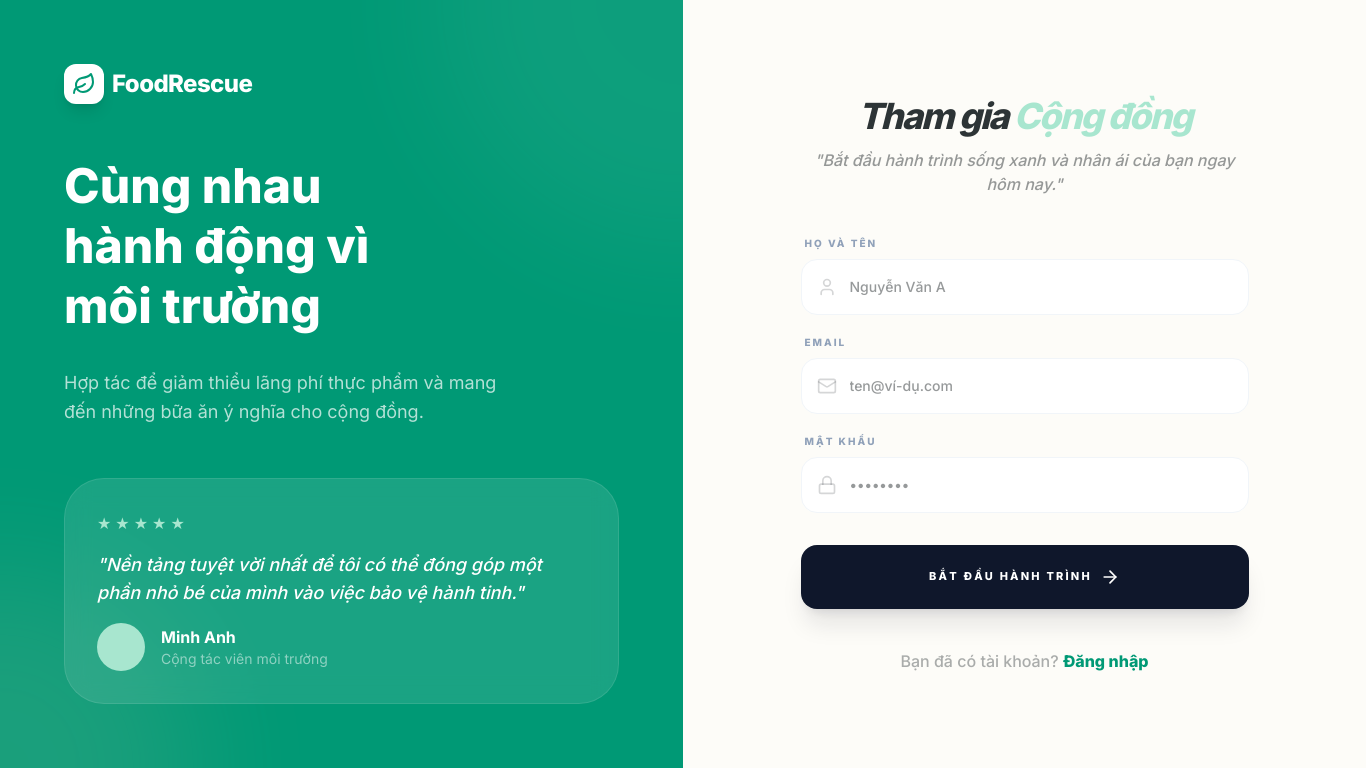
Test: RegisterPage › shows error when register API returns invalid input
Type "Nguyen Van B" into the field with placeholder "Nguyễn Văn A" at (1024, 286), box [800,258,1248,314]
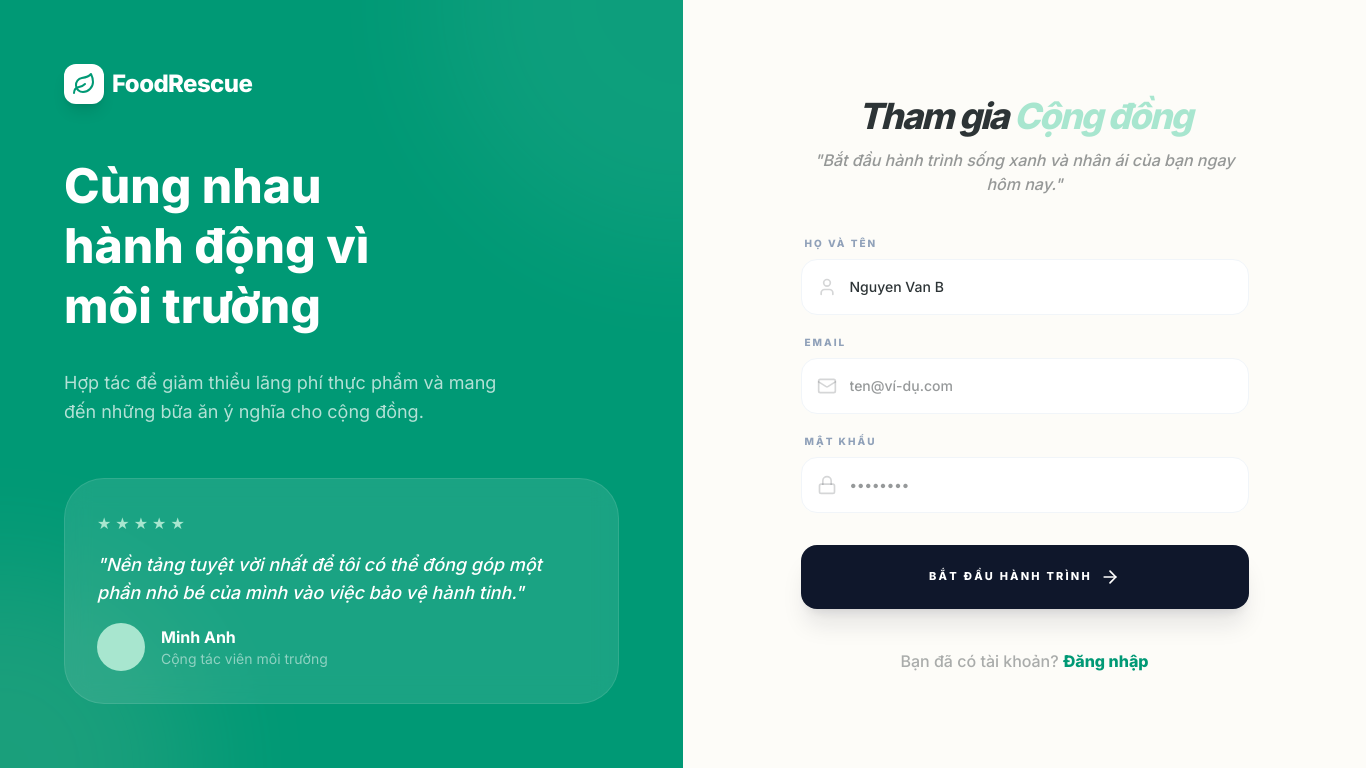
Type "existing@example.com" into the field with placeholder "ten@ví-dụ.com" at (1024, 386), box [800,358,1248,414]
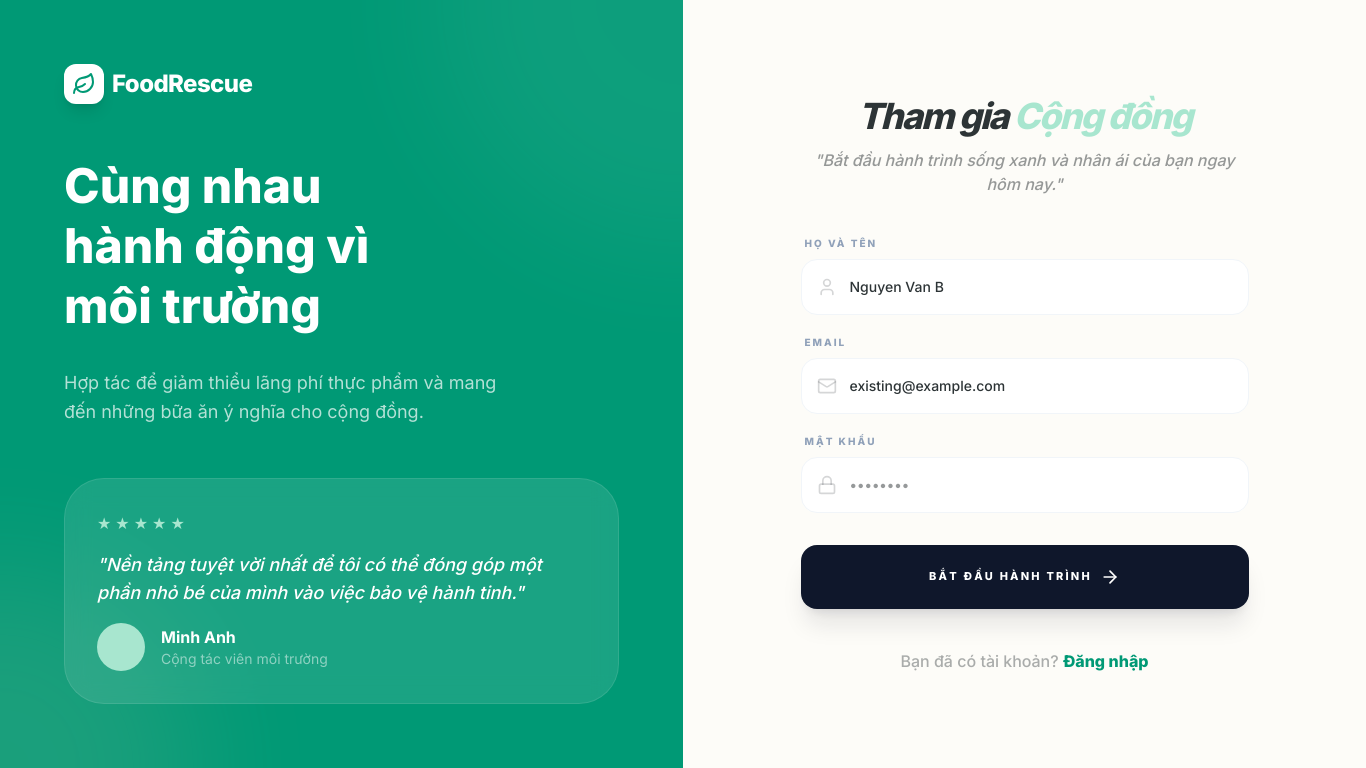
Type "12345678" into the password field with placeholder "••••••••" at (1024, 484), box [800,456,1248,512]
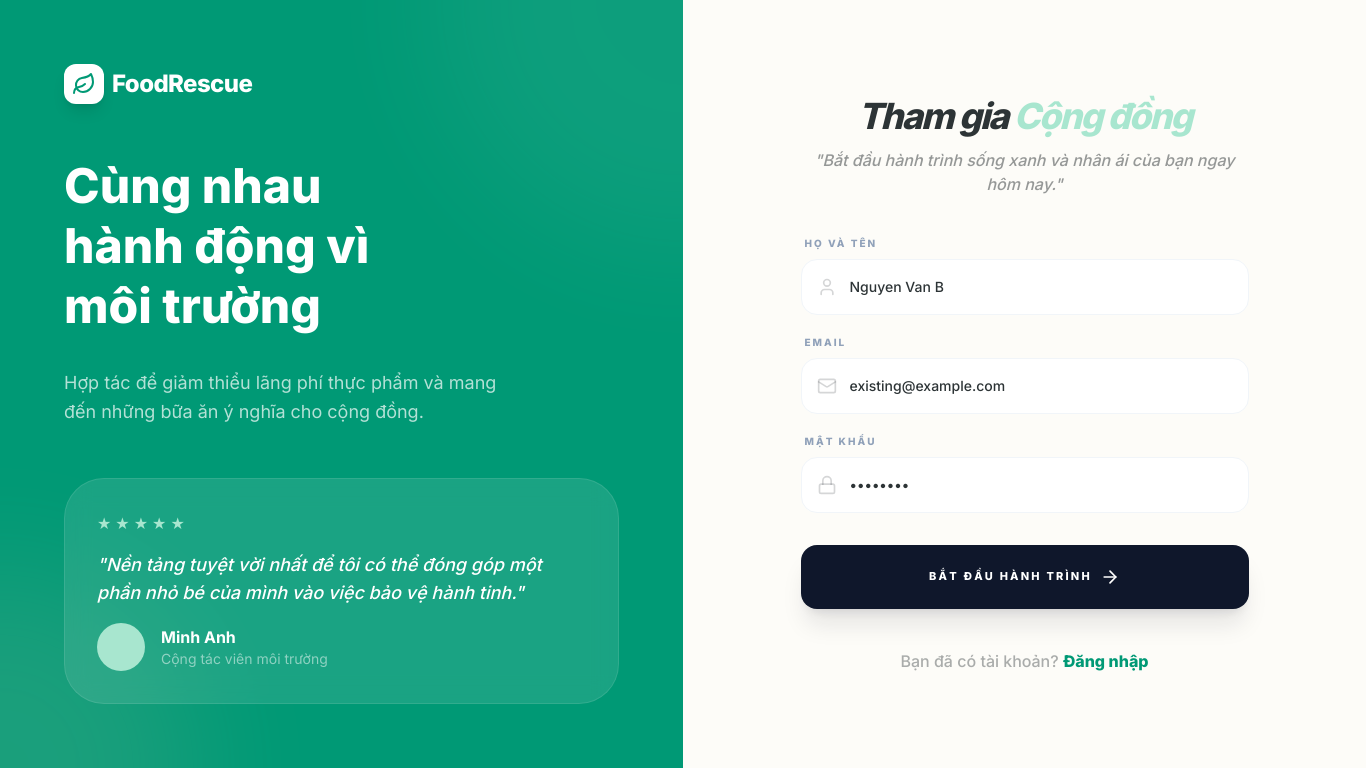
Click the button "Bắt đầu hành trình" at (1024, 576), box [800,544,1248,608]
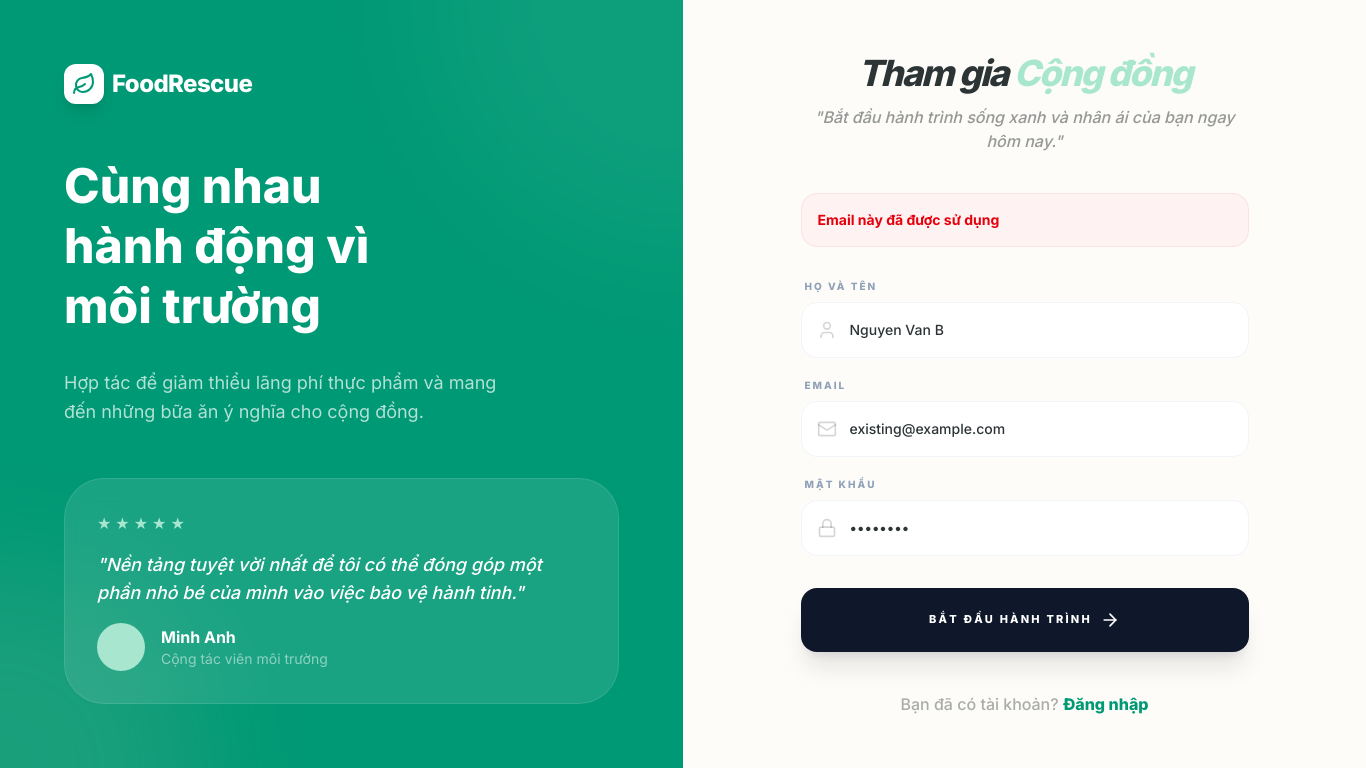
Expected: the text "Email này đã được sử dụng" is shown, [800,192,1248,246]
